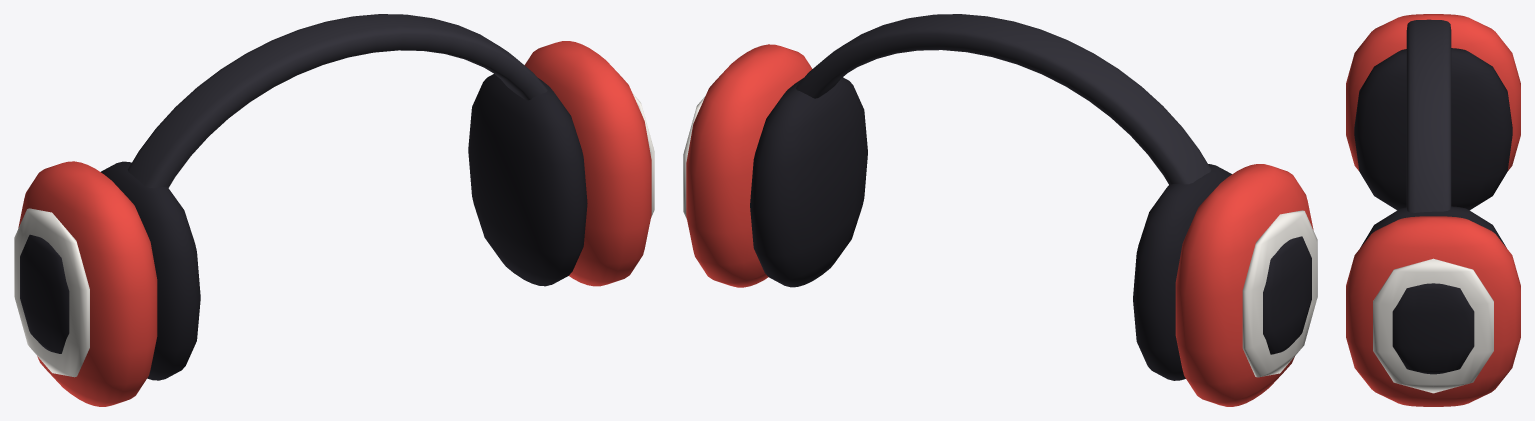
File: hat_headphones.glb
3 renders of one model, left to right at view 1: azimuth 30°, elevation 25°; view 2: azimuth 150°, elevation 25°; view 3: azimuth 270°, elevation 25°, orthographic. The views are drawn at different scales.
Visible parts, largest first — view 1: HatHeadphones; view 2: HatHeadphones; view 3: HatHeadphones.
Boxes of the visible parts, bbox=[...] form: HatHeadphones: bbox=[14, 14, 654, 406]; HatHeadphones: bbox=[683, 14, 1317, 406]; HatHeadphones: bbox=[1346, 14, 1520, 406].
Bounding box in the file's own units: 0.771 × 0.3845 × 0.2351.
